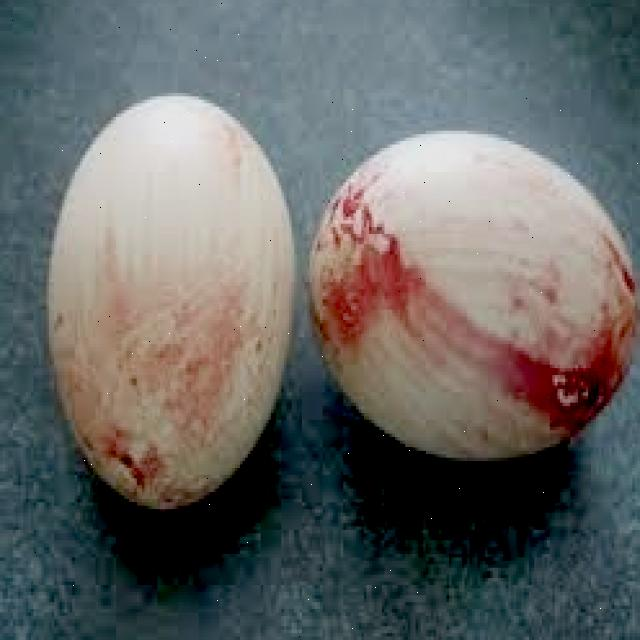Blood Stained Egg: (312, 100, 640, 471), (46, 84, 297, 520)
